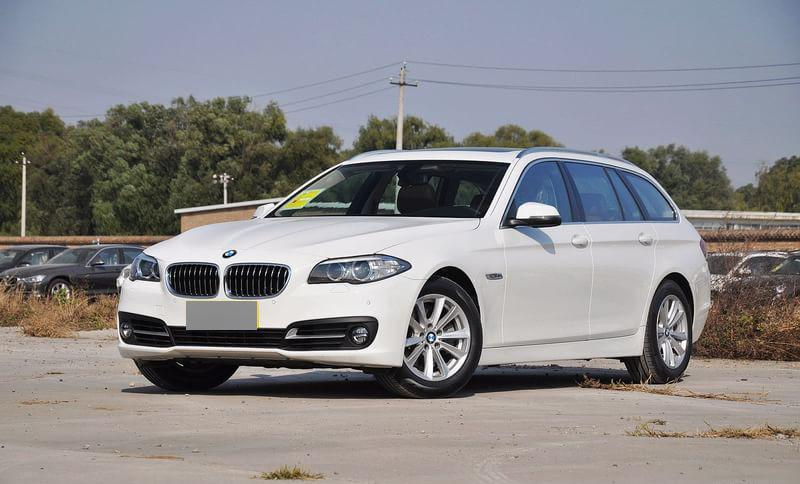Wagon: (115, 144, 712, 401)
